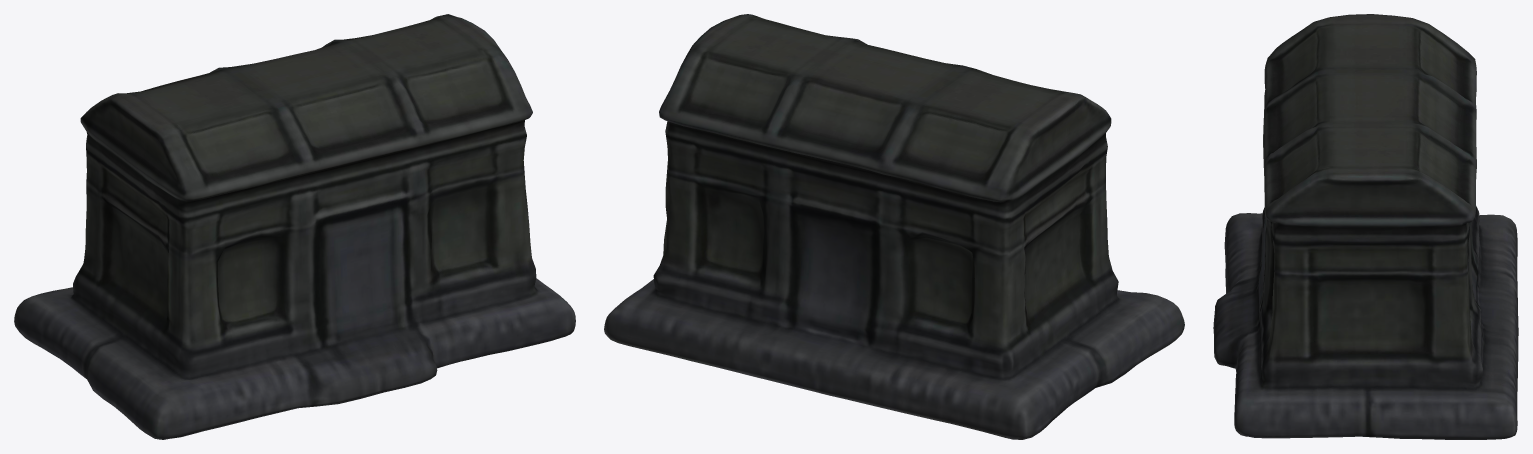
File: 103dd0c00e2a_tomb_with_open_door.obj
3 views of the same model, side by side, from view 1: azimuth 30°, elevation 25°; view 2: azimuth 150°, elevation 25°; view 3: azimuth 270°, elevation 25° (orthographic). The views are drawn at different scales.
Visible parts, largest first — view 1: mesh; view 2: mesh; view 3: mesh.
Part boxes in pixels (x1,y1,x2,y2): mesh: (14,14,575,439); mesh: (604,14,1184,439); mesh: (1213,14,1518,439).
Size of the model in its own units: 0.9969 by 0.5816 by 0.6393.
Materials: 1 (1 with a texture image).
